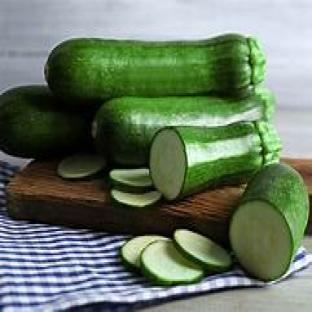Zucchini: (46, 35, 265, 101), (92, 88, 274, 167), (149, 121, 280, 199), (230, 164, 309, 280), (0, 87, 91, 158), (142, 240, 204, 286), (174, 230, 231, 272), (121, 235, 167, 270), (57, 154, 106, 179), (109, 168, 152, 193), (111, 190, 161, 208)
